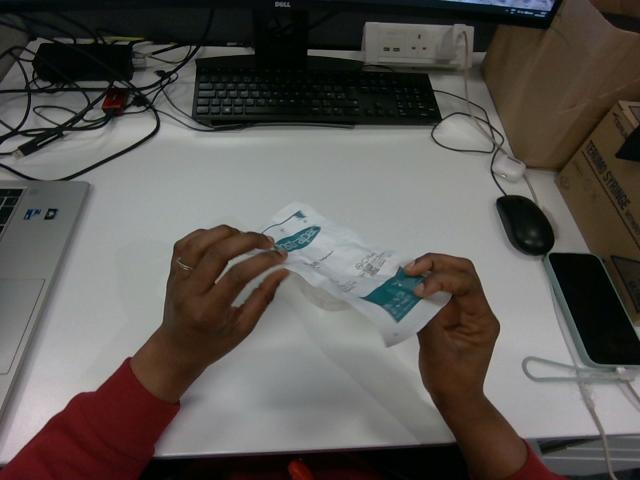gallipot: (261, 202, 449, 345)
